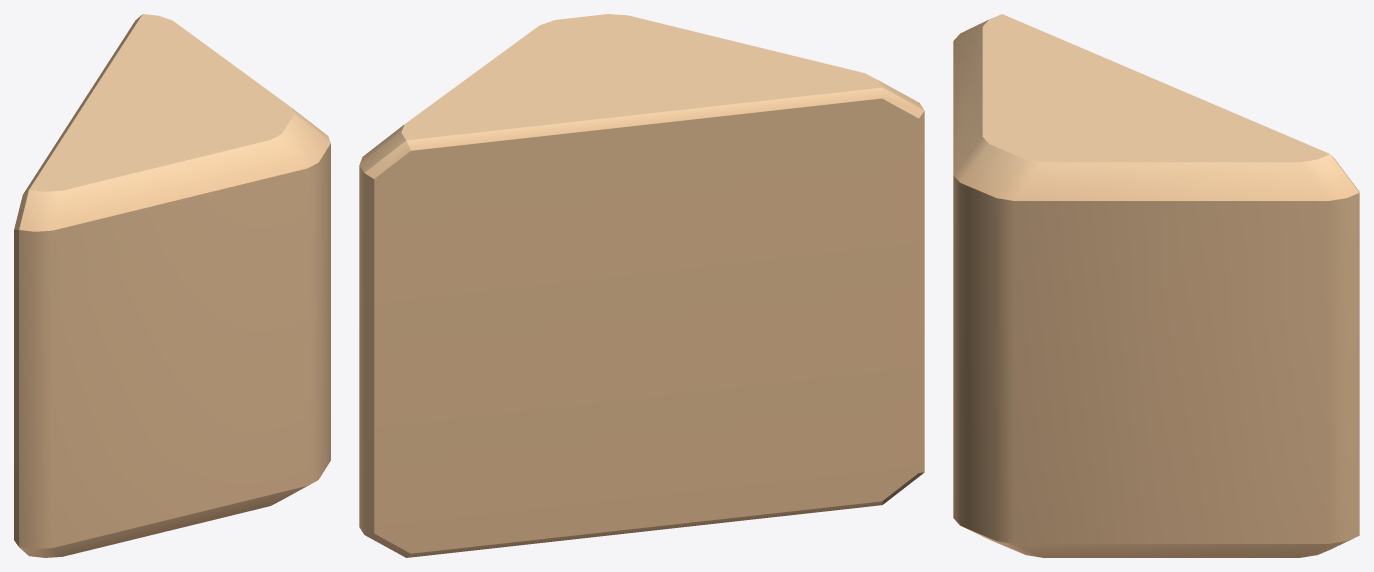
Rendered from Stone_Block_triangle.fbx.
3 views of the same model, side by side, from view 1: azimuth 30°, elevation 25°; view 2: azimuth 150°, elevation 25°; view 3: azimuth 270°, elevation 25° (orthographic). The views are drawn at different scales.
Parts seen in each view (by area): view 1: Stone Block triangle; view 2: Stone Block triangle; view 3: Stone Block triangle.
Boxes of the visible parts, <box> form: Stone Block triangle: <box>14,14,330,557</box>; Stone Block triangle: <box>359,14,924,557</box>; Stone Block triangle: <box>953,14,1359,557</box>.
Bounding box in the file's own units: 92.44 × 98.56 × 91.71.
